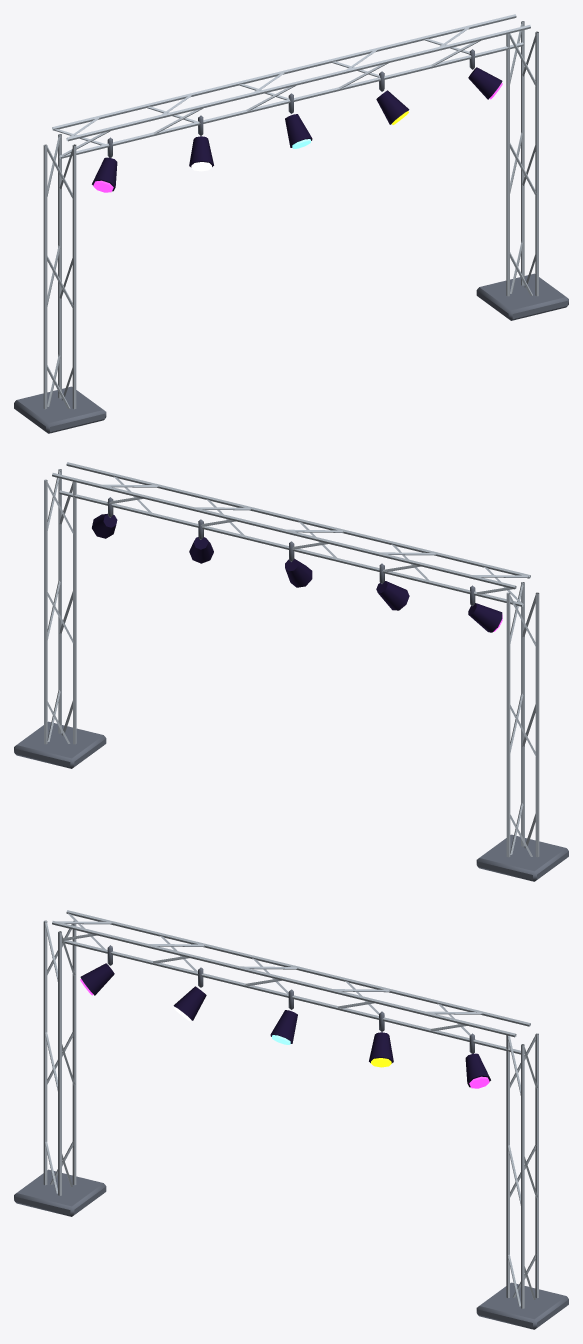
File: W6_LightTruss.fbx
3 views of the same model, one above another, from view 1: azimuth 30°, elevation 25°; view 2: azimuth 150°, elevation 25°; view 3: azimuth 330°, elevation 25° (orthographic).
Visible parts, largest first — view 1: Static, Head_1, Head_0, Head_2, Head_3, Head_4; view 2: Static, Head_0, Head_1, Head_2, Head_3, Head_4; view 3: Static, Head_3, Head_4, Head_2, Head_1, Head_0.
Part boxes in pixels (x1,y1,x2,y2): Static: (14,14,568,433); Head_1: (189,115,213,171); Head_0: (92,137,117,192); Head_2: (285,93,312,148); Head_3: (376,71,409,124); Head_4: (468,49,502,99); Static: (14,462,568,881); Head_0: (468,585,502,632); Head_1: (376,563,409,610); Head_2: (285,541,312,587); Head_3: (189,519,213,563); Head_4: (92,497,117,538); Static: (14,910,568,1329); Head_3: (369,1011,393,1067); Head_4: (465,1033,490,1088); Head_2: (270,989,297,1044); Head_1: (173,967,206,1020); Head_0: (80,945,114,995).
Bounding box in the file's own units: 10.4 × 5.39 × 1.2.
